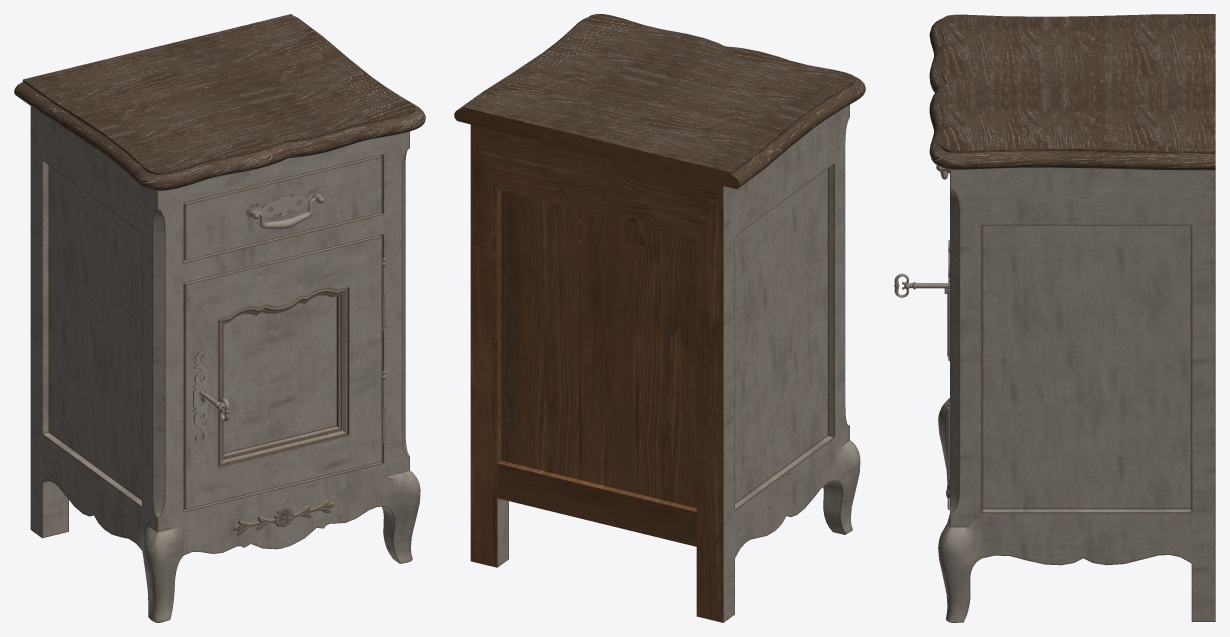
File: example48.glb
3 renders of one model, left to right at view 1: azimuth 30°, elevation 25°; view 2: azimuth 150°, elevation 25°; view 3: azimuth 270°, elevation 25°, orthographic. The views are drawn at different scales.
Parts seen in each view (by area): view 1: Buffer Layer (×3); view 2: Buffer Layer (×3); view 3: Buffer Layer (×3).
Boxes of the visible parts, left/top/right/bottom form: Buffer Layer (×3): left=14, top=14, right=425, bottom=622; Buffer Layer (×3): left=454, top=14, right=865, bottom=622; Buffer Layer (×3): left=894, top=14, right=1215, bottom=622.
Size of the model in its own units: 0.57 by 0.8618 by 0.5293.
Materials: 4 (4 with a texture image).
